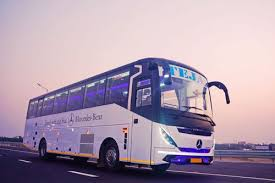bus: (23, 57, 231, 173)
